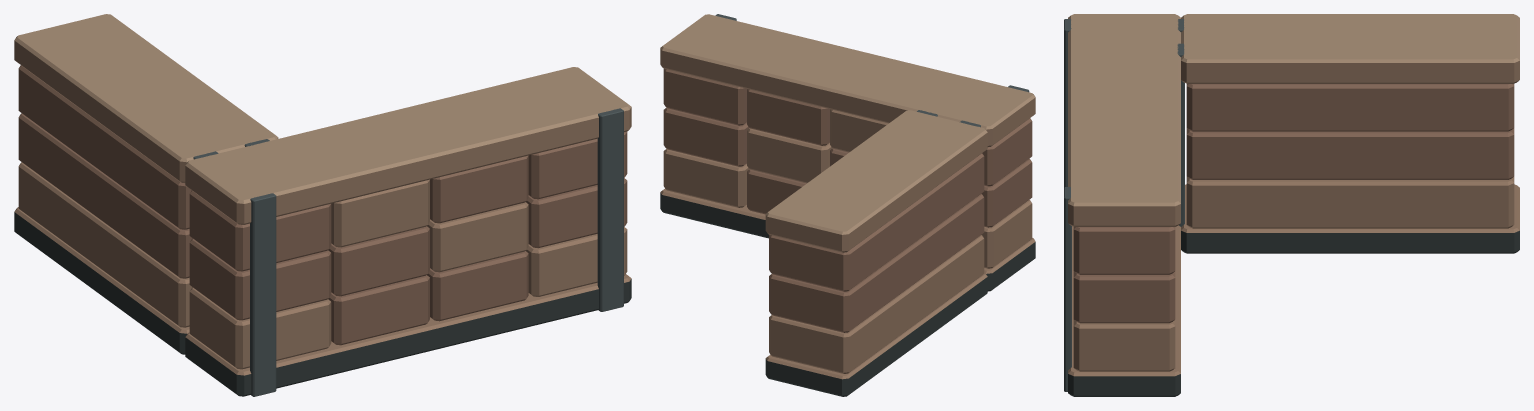
File: wall-corner.glb
3 renders of one model, left to right at view 1: azimuth 30°, elevation 25°; view 2: azimuth 150°, elevation 25°; view 3: azimuth 270°, elevation 25°, orthographic. The views are drawn at different scales.
Parts seen in each view (by area): view 1: wall-corner__body; view 2: wall-corner__body; view 3: wall-corner__body.
Boxes of the visible parts, box(x1,y1,x2,y2) form: wall-corner__body: box(14, 14, 631, 396); wall-corner__body: box(660, 14, 1035, 396); wall-corner__body: box(1064, 14, 1519, 396).
Size of the model in its own units: 2 by 0.95 by 2.02.
